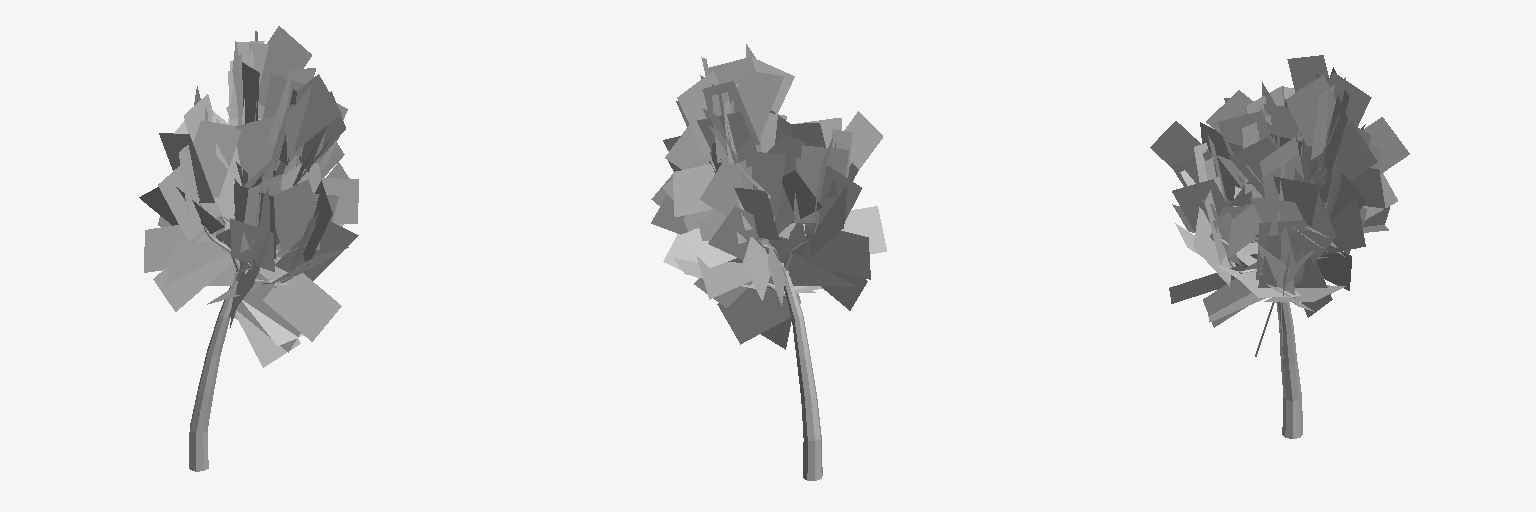
Rendered from tree3.obj.
3 renders of one model, left to right at view 1: azimuth 30°, elevation 25°; view 2: azimuth 150°, elevation 25°; view 3: azimuth 270°, elevation 25°, orthographic.
Bounding box in the file's own units: 522 × 942 × 547.